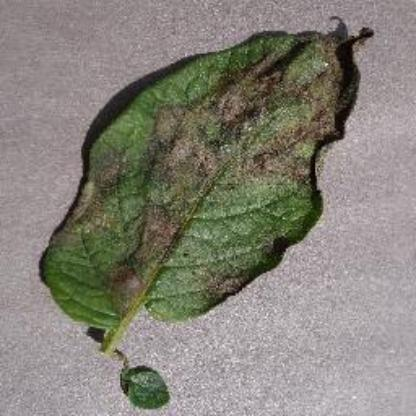Late-Blight: (34, 16, 384, 412)
